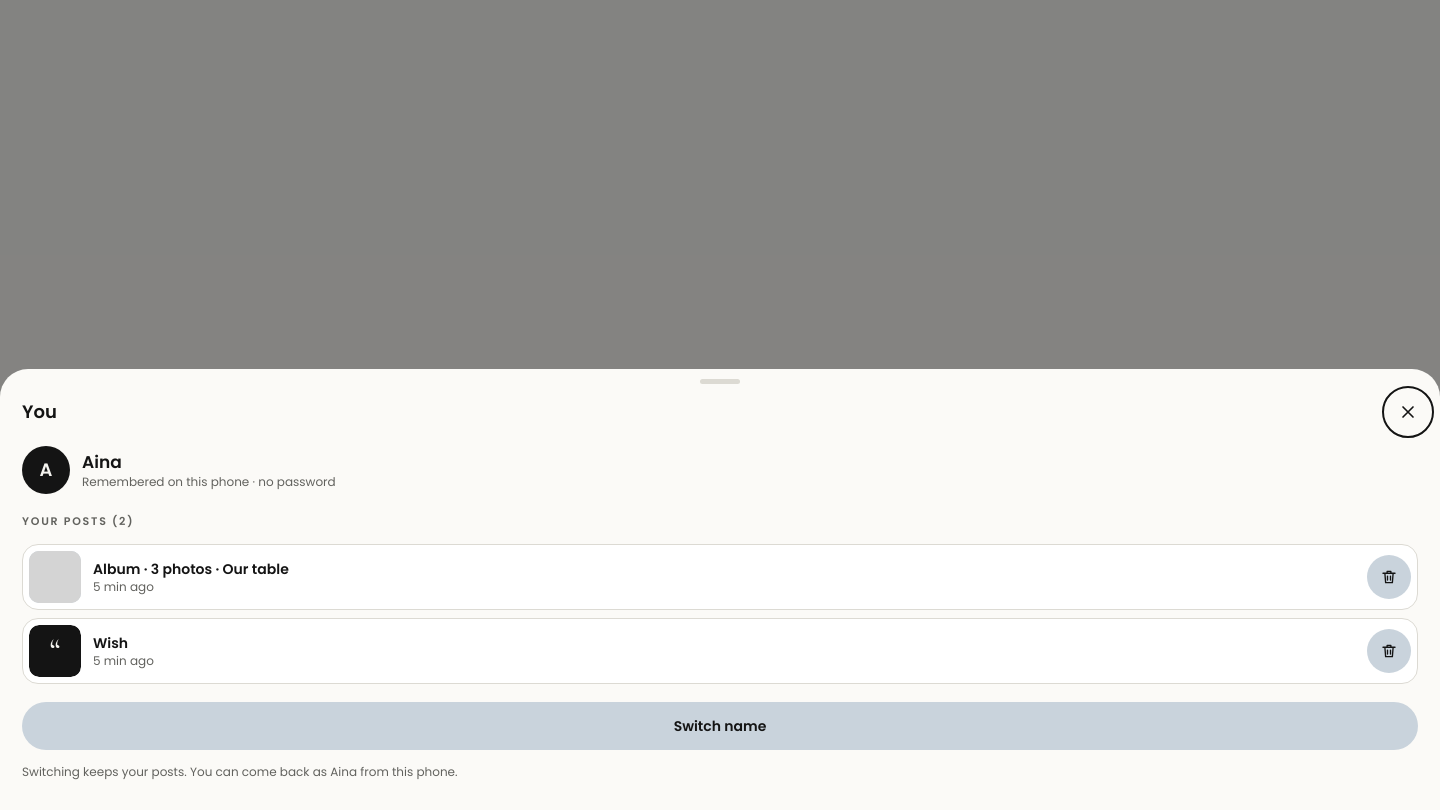
Scenario: MeDrawer › Switch name › forgets the active name, then loads the welcome page afresh
Click the button "Switch name".
click(720, 726)  # box [22,702,1418,750]
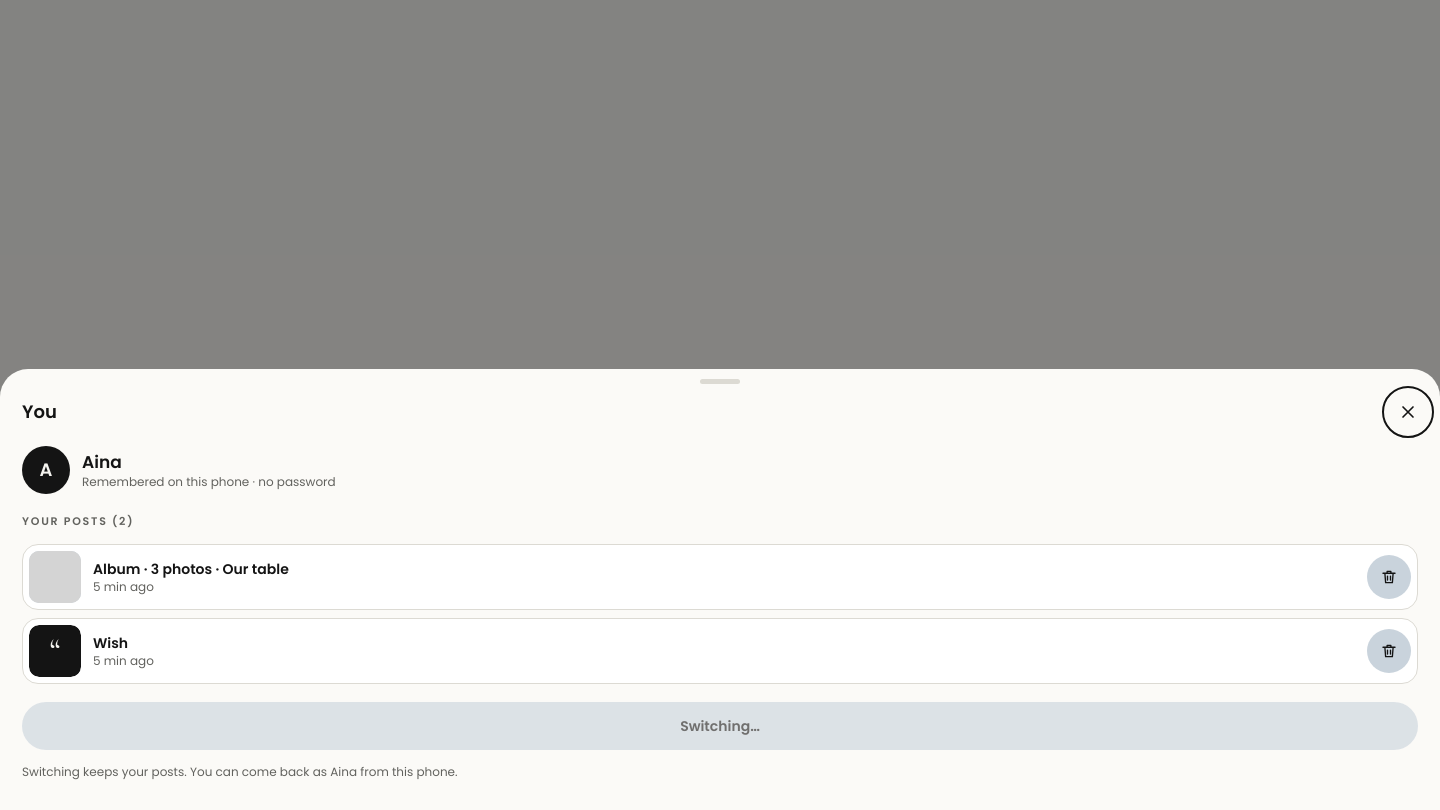
Result: the button "Switching…" is disabled at [22,702,1418,750]
